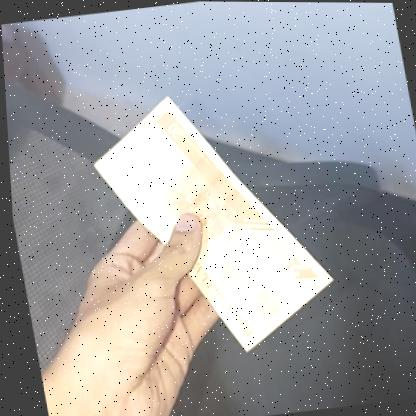twenty-back-vef: (77, 78, 342, 371)
